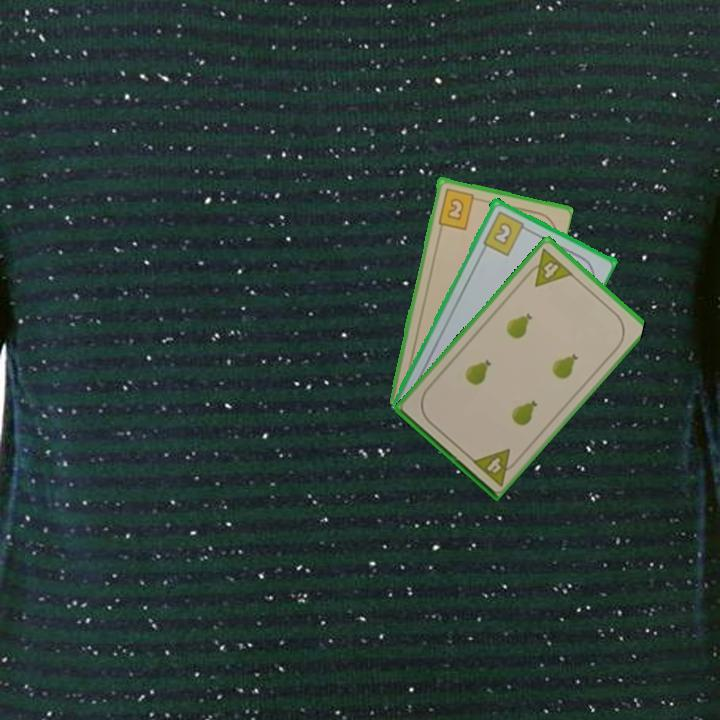2b: (479, 207, 532, 258), (434, 185, 482, 232)
4p: (521, 245, 576, 290), (468, 445, 522, 488)
